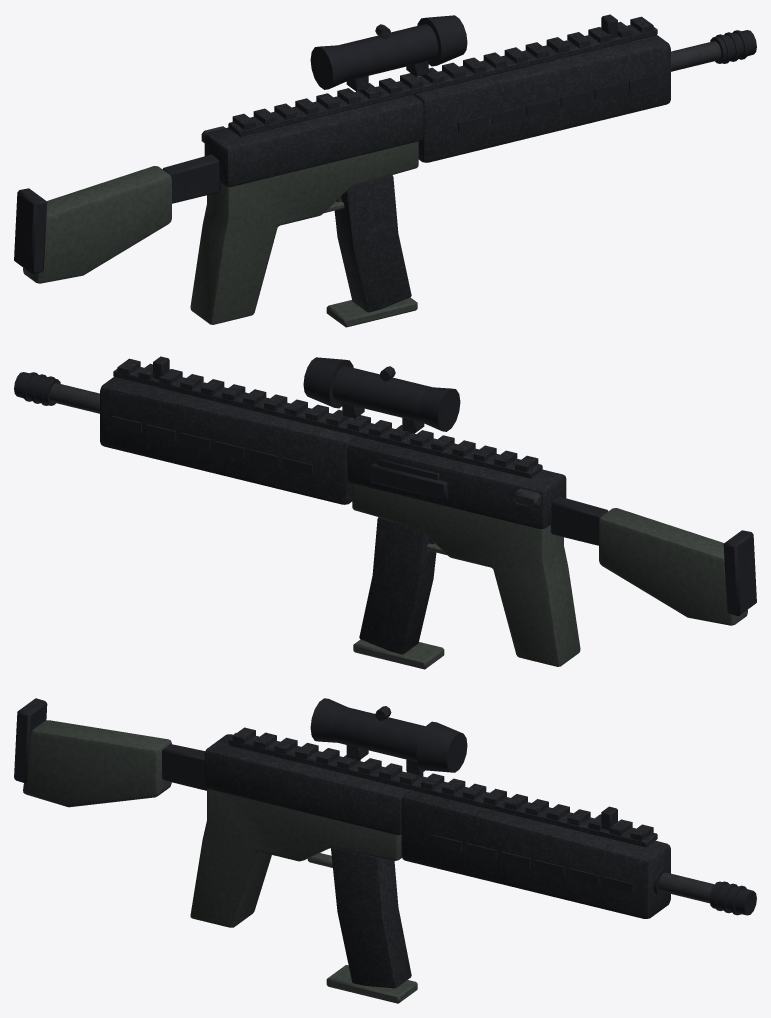
Rendered from rifle_r1.fbx.
The picture shows the model from 3 angles, top to bottom: view 1: azimuth 30°, elevation 25°; view 2: azimuth 150°, elevation 25°; view 3: azimuth 330°, elevation 25°; orthographic projection.
Parts seen in each view (by area): view 1: Body, Magazine; view 2: Body, Magazine, Bolt; view 3: Body, Magazine.
Boxes of the visible parts, x1=… form: Body: x1=14, y1=14, x2=756, y2=324; Magazine: x1=326, y1=175, x2=417, y2=327; Body: x1=14, y1=356, x2=756, y2=666; Magazine: x1=353, y1=517, x2=444, y2=669; Bolt: x1=369, y1=459, x2=541, y2=508; Body: x1=14, y1=698, x2=756, y2=927; Magazine: x1=326, y1=848, x2=417, y2=1003.
Size of the model in its own units: 8.53 by 3.17 by 0.62.
1 material, 1 textured.
